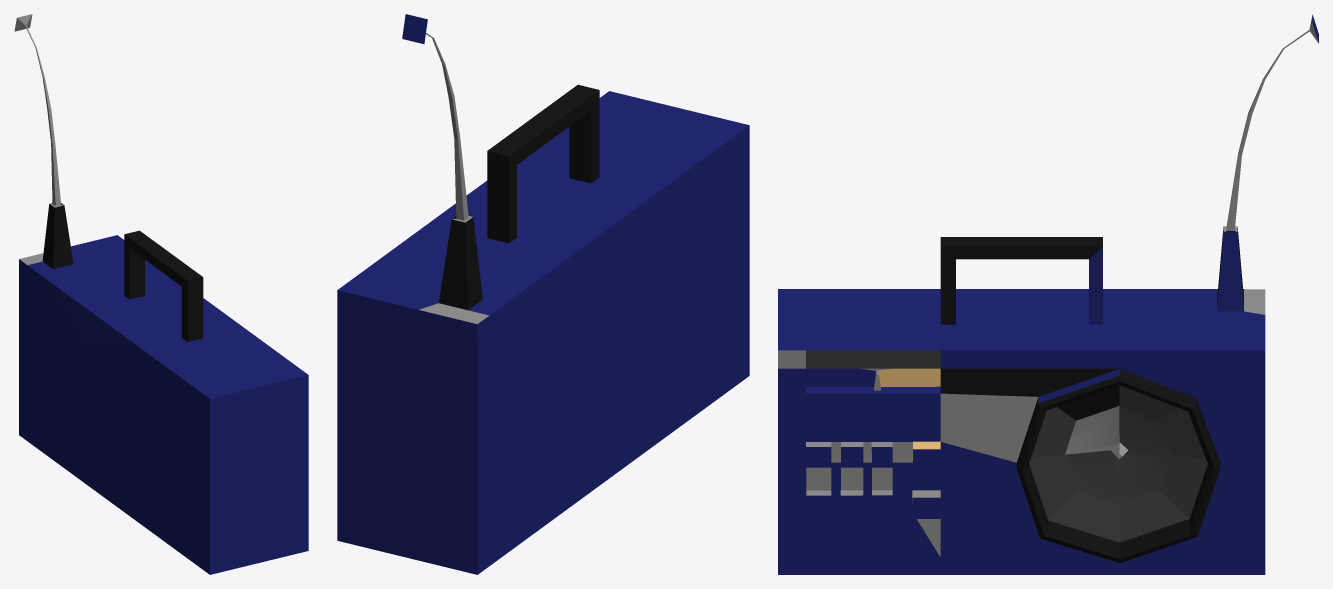
Rendered from RadioReveil.FBX.
3 renders of one model, left to right at view 1: azimuth 30°, elevation 25°; view 2: azimuth 150°, elevation 25°; view 3: azimuth 270°, elevation 25°, orthographic. The views are drawn at different scales.
Visible parts, largest first — view 1: Box001; view 2: Box001; view 3: Box001.
Part boxes in pixels (x1,y1,x2,y2): Box001: (14, 14, 308, 574); Box001: (337, 14, 749, 574); Box001: (778, 14, 1318, 574).
Bounding box in the file's own units: 6.75 × 23.22 × 22.31.
